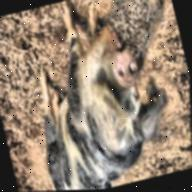boar: (10, 0, 183, 192)
